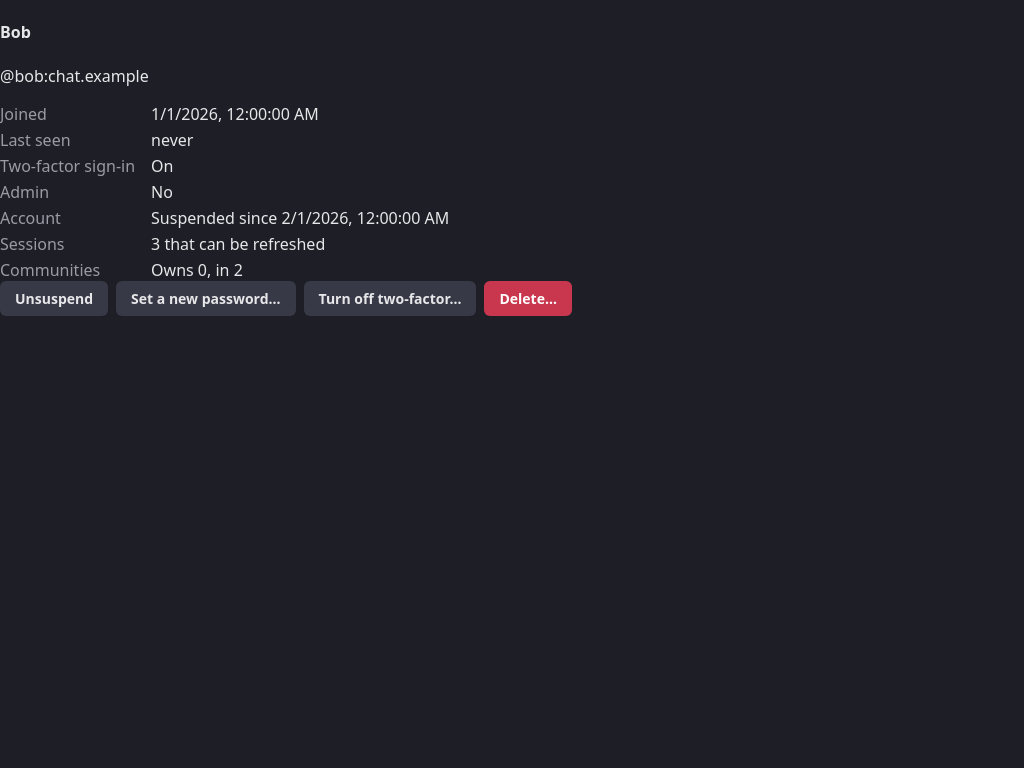
Test: doing something › does nothing, and shows no error, when they back out of confirming
Click the button "Unsuspend" at (54, 298), box [0, 280, 108, 316]
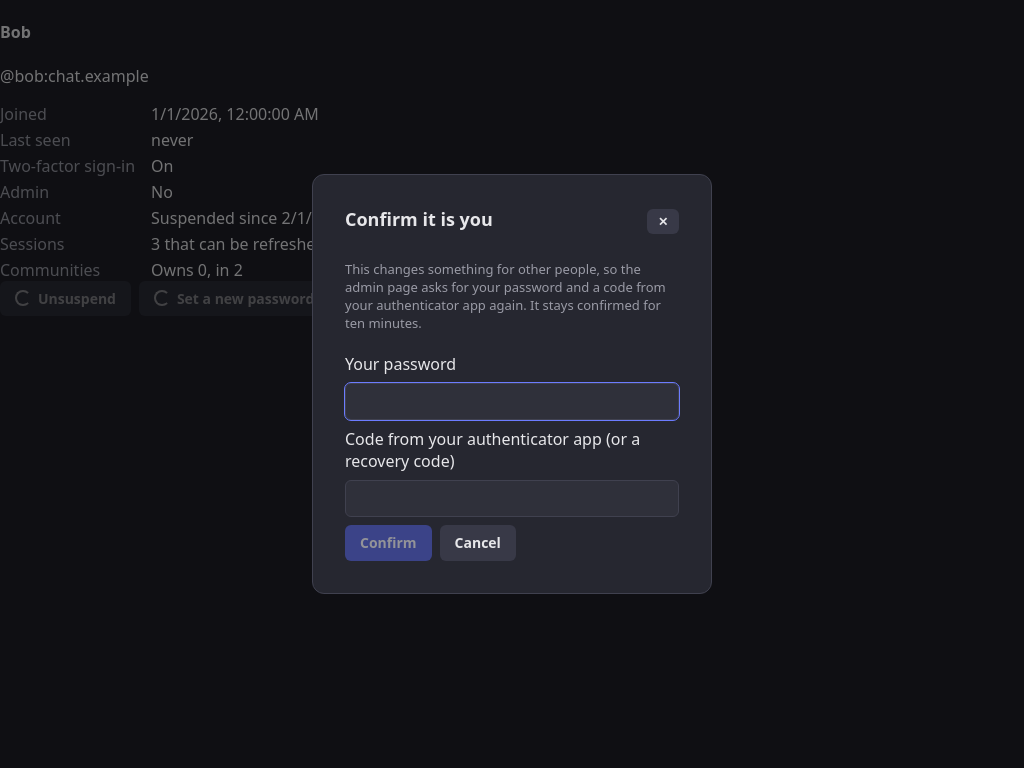
Click the button "Cancel" at (478, 543), box [440, 525, 516, 561]
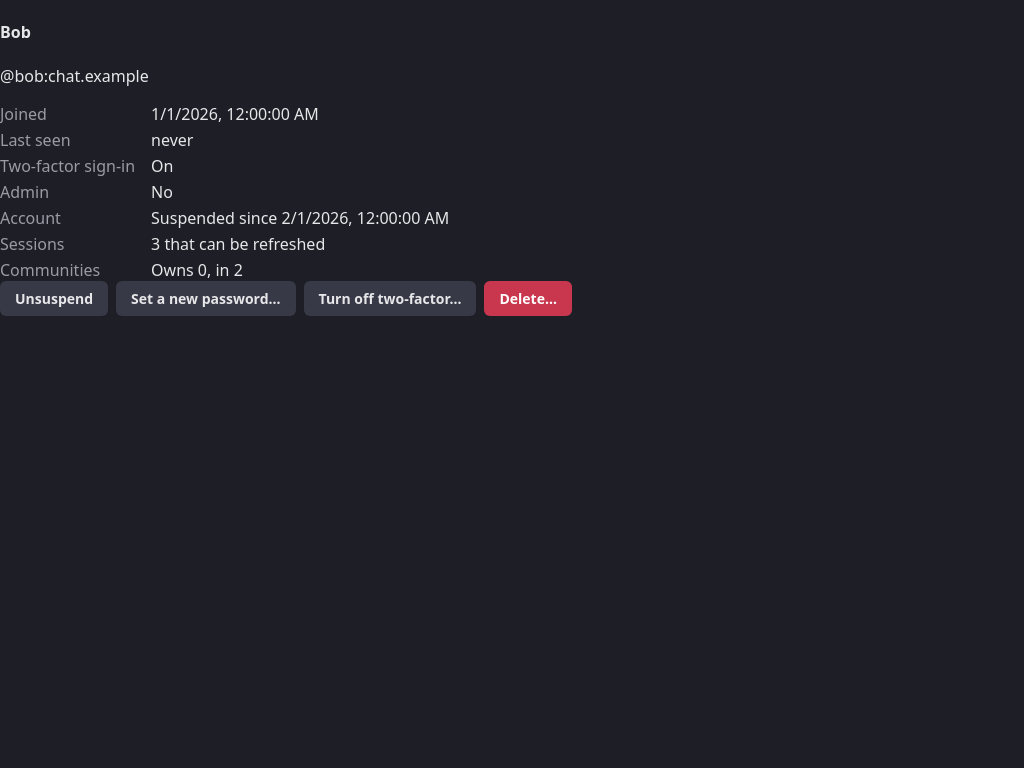
Expected: the button "Unsuspend" is shown, [0, 280, 108, 316]
Expected: the dialog is gone
